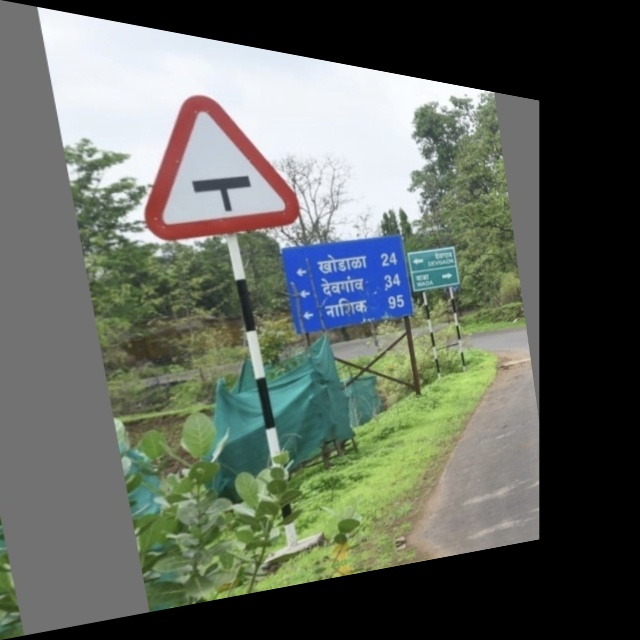T_Intersection: (123, 74, 305, 245)
